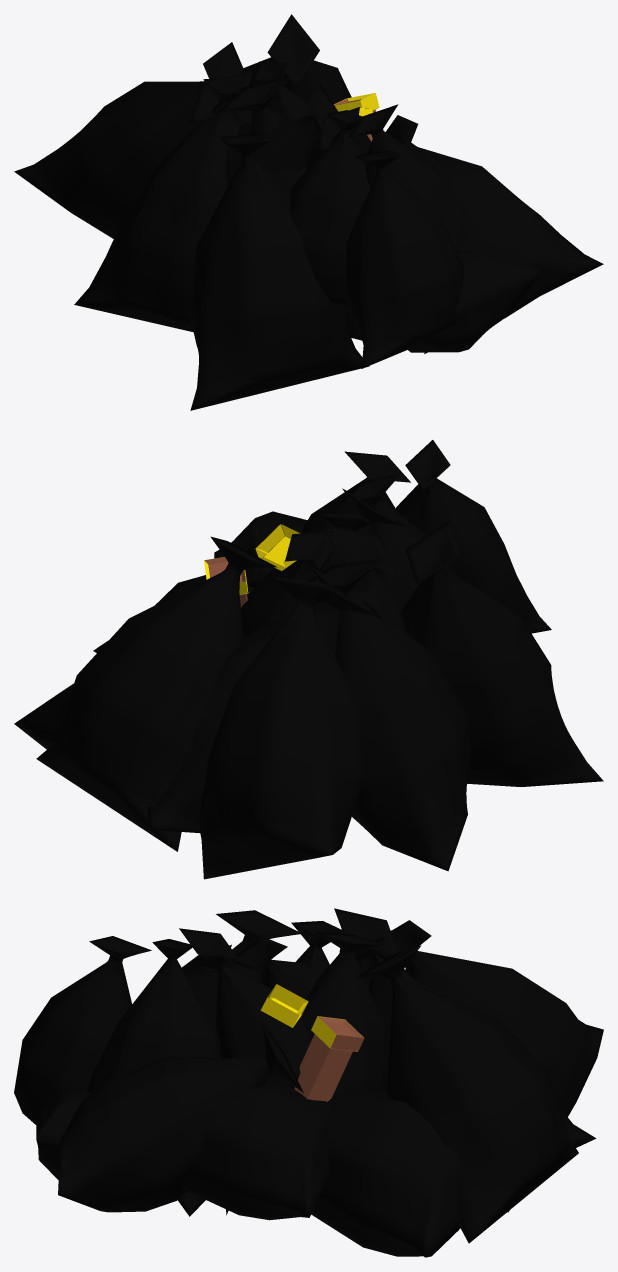
File: trashpile.fbx
The picture shows the model from 3 angles, top to bottom: view 1: azimuth 30°, elevation 25°; view 2: azimuth 150°, elevation 25°; view 3: azimuth 270°, elevation 25°; orthographic projection. The views are drawn at different scales.
Visible parts, largest first — view 1: TrashPile; view 2: TrashPile; view 3: TrashPile.
Part boxes in pixels (left/top/right/bottom): TrashPile: left=14, top=14, right=603, bottom=410; TrashPile: left=14, top=440, right=603, bottom=879; TrashPile: left=14, top=908, right=603, bottom=1257.
Bounding box in the file's own units: 556 × 359 × 666.
